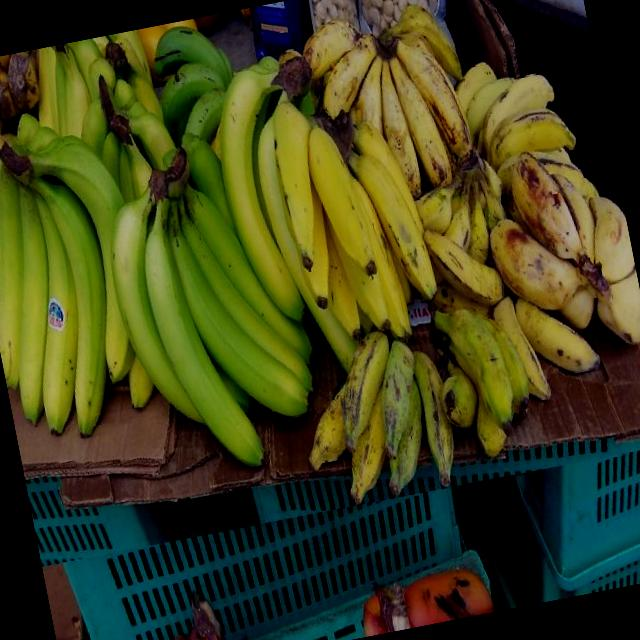Banana: (200, 33, 451, 384), (88, 136, 334, 490), (0, 100, 168, 443), (474, 130, 640, 369), (292, 0, 479, 194), (286, 321, 464, 503), (205, 620, 252, 640), (225, 633, 251, 640), (208, 633, 229, 640)
